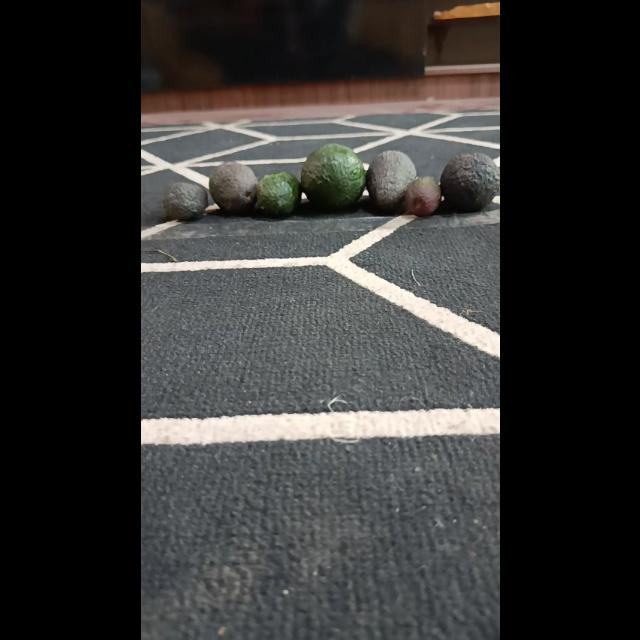Primera: (299, 143, 366, 211), (438, 151, 499, 213)
Segunda: (364, 150, 418, 214), (207, 160, 259, 214), (252, 172, 300, 216)
Tercera: (159, 181, 207, 223), (402, 176, 441, 217)
